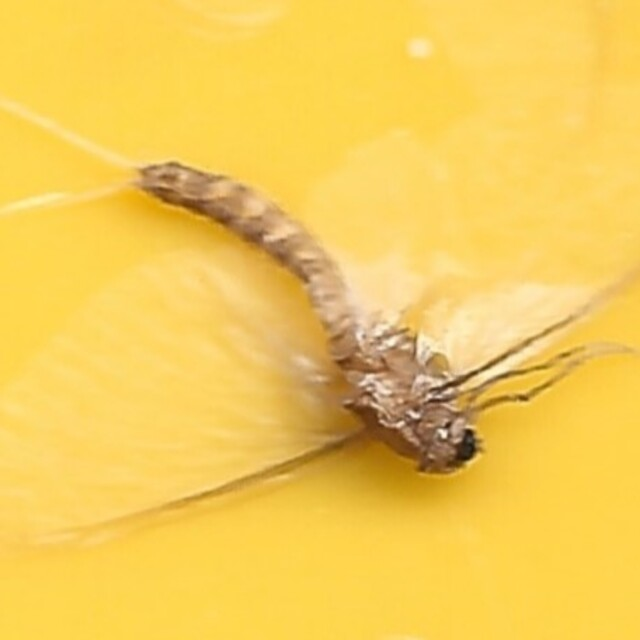Ephemeroptera: (140, 152, 500, 488)
